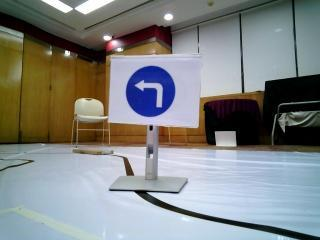left: (115, 61, 192, 123)
